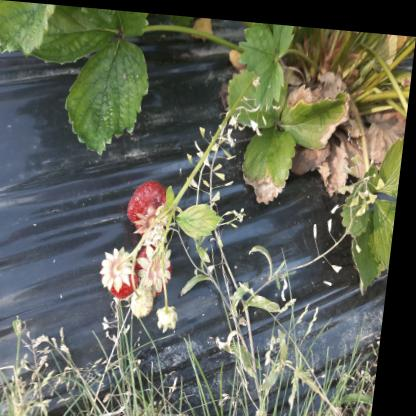ripe: (132, 178, 178, 232), (141, 241, 181, 293), (104, 252, 145, 296)
